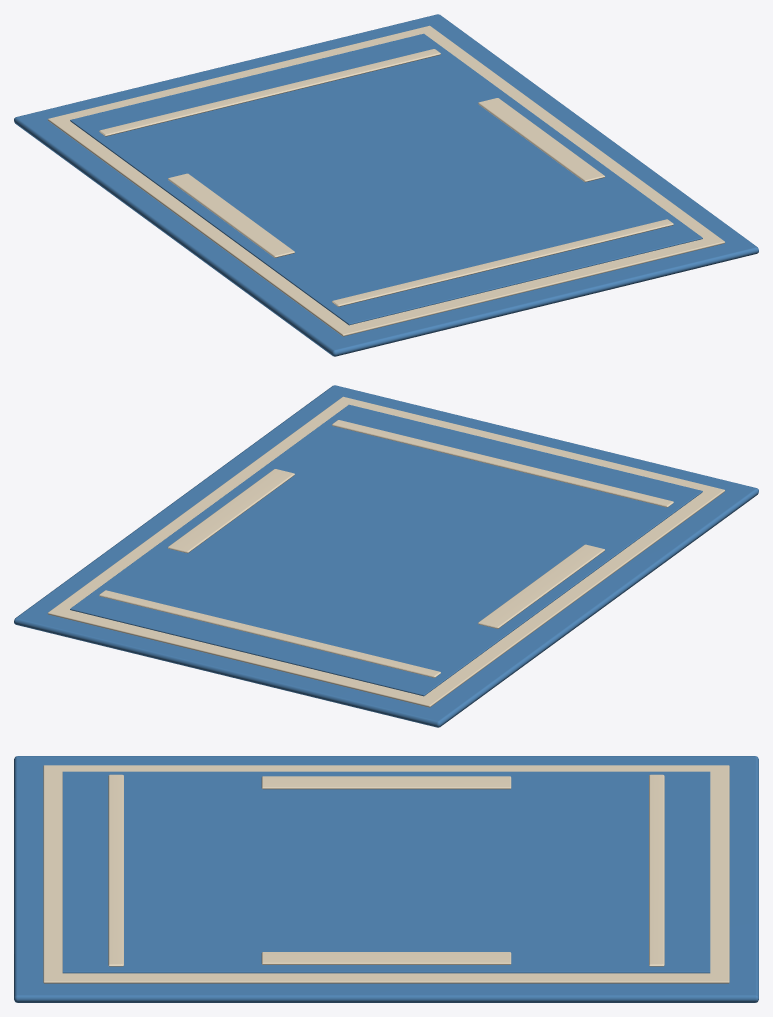
The model's file is rug_blue_cream.glb.
3 renders of one model, top to bottom at view 1: azimuth 30°, elevation 25°; view 2: azimuth 150°, elevation 25°; view 3: azimuth 270°, elevation 25°, orthographic. The views are drawn at different scales.
Parts seen in each view (by area): view 1: field, carpet, border, end border, end border.001, central motif.001, central motif; view 2: field, carpet, border, end border.001, end border, central motif.001, central motif; view 3: field, carpet, border, central motif, central motif.001, end border, end border.001.
Boxes of the visible parts, box(x1,y1,x2,y2) form: field: box(70, 33, 702, 325); carpet: box(14, 14, 758, 356); border: box(47, 25, 725, 336); end border: box(332, 219, 673, 306); end border.001: box(99, 49, 440, 136); central motif.001: box(478, 98, 604, 182); central motif: box(168, 173, 294, 257); field: box(70, 404, 702, 696); carpet: box(14, 385, 758, 727); border: box(47, 396, 725, 707); end border.001: box(99, 590, 440, 677); end border: box(332, 420, 673, 507); central motif.001: box(168, 469, 294, 553); central motif: box(478, 544, 604, 628); field: box(62, 771, 710, 973); carpet: box(14, 756, 758, 1002); border: box(43, 765, 729, 983); central motif: box(261, 776, 511, 789); central motif.001: box(261, 952, 511, 964); end border: box(108, 774, 123, 966); end border.001: box(649, 774, 664, 966).
Bounding box in the file's own units: 1.65 × 0.0445 × 2.15.
